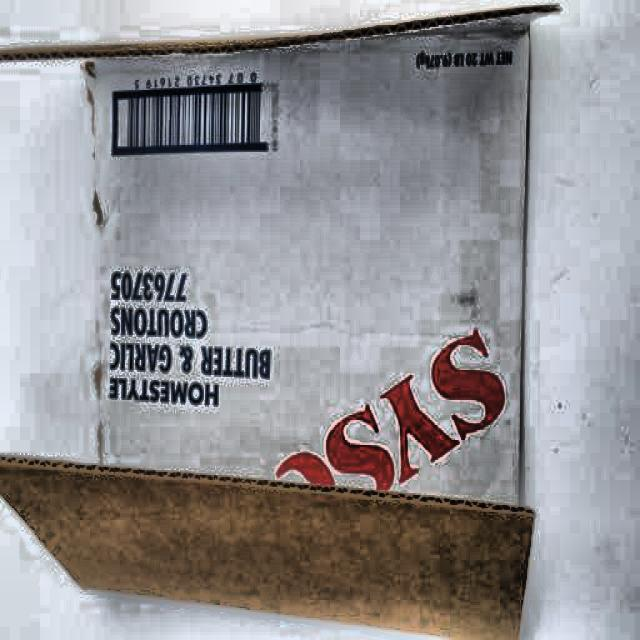cardboard: (6, 25, 571, 628)
